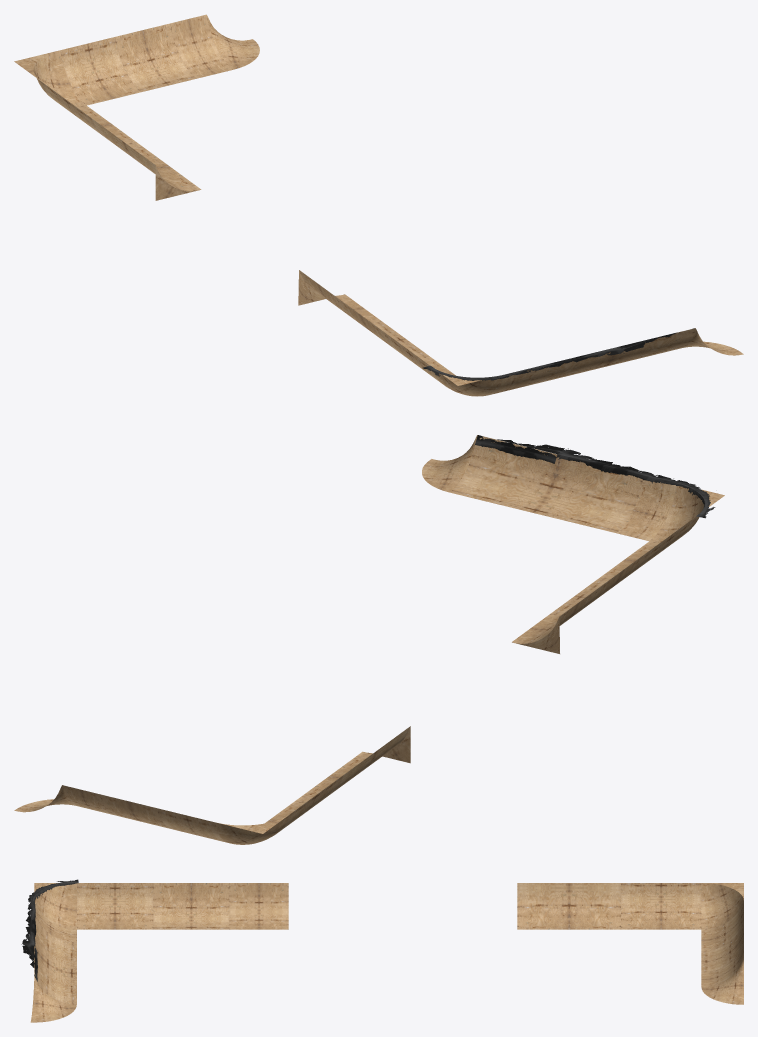
File: quarterC.fbx
3 renders of one model, top to bottom at view 1: azimuth 30°, elevation 25°; view 2: azimuth 150°, elevation 25°; view 3: azimuth 270°, elevation 25°, orthographic. The views are drawn at different scales.
Parts seen in each view (by area): view 1: quarterC, quarterCdecalc; view 2: quarterC, quarterCdecalc; view 3: quarterC, quarterCdecalc.
Boxes of the visible parts, x1=… form: quarterC: x1=14, y1=14, x2=743, y2=396; quarterCdecalc: x1=422, y1=328, x2=693, y2=380; quarterC: x1=14, y1=435, x2=724, y2=844; quarterCdecalc: x1=475, y1=435, x2=715, y2=518; quarterC: x1=30, y1=883, x2=743, y2=1022; quarterCdecalc: x1=21, y1=879, x2=78, y2=981.
Bounding box in the file's own units: 1119 × 125 × 2871.
